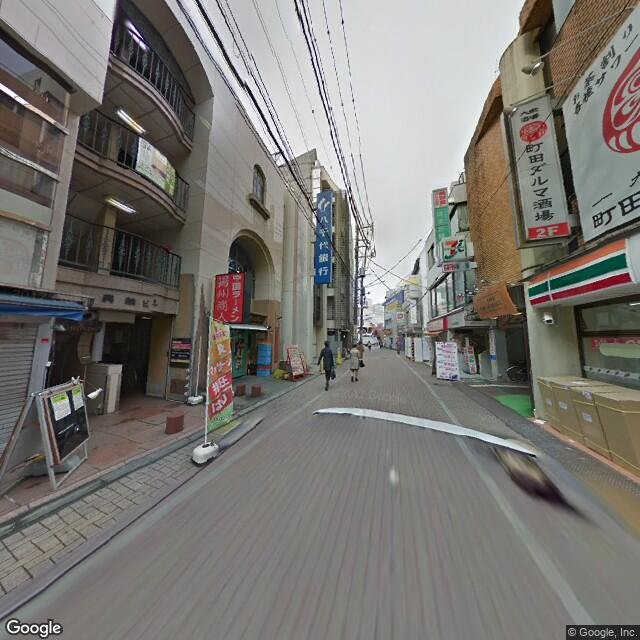7-eleven: (527, 234, 633, 318), (437, 229, 471, 265)
